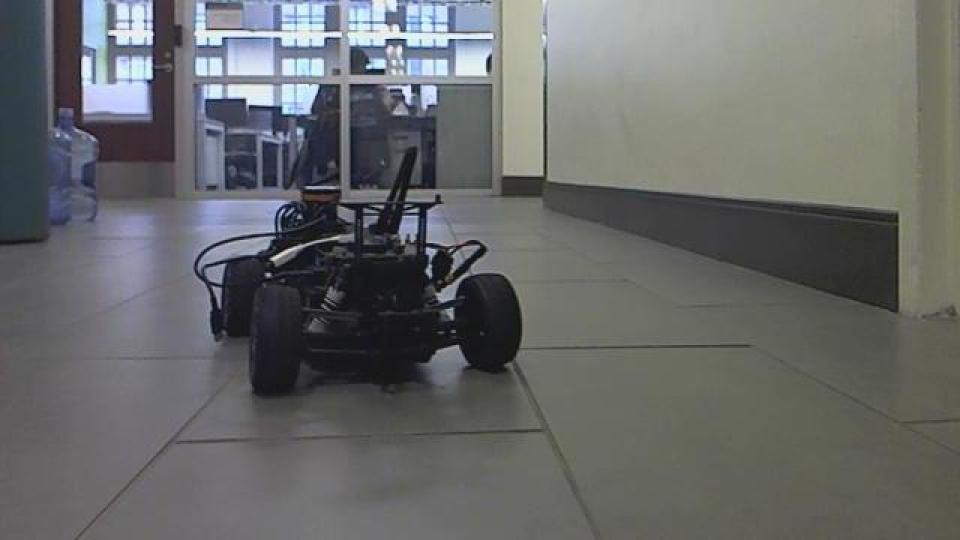car: (191, 144, 525, 398)
